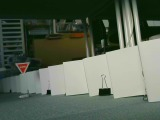stop: (14, 62, 30, 76)
